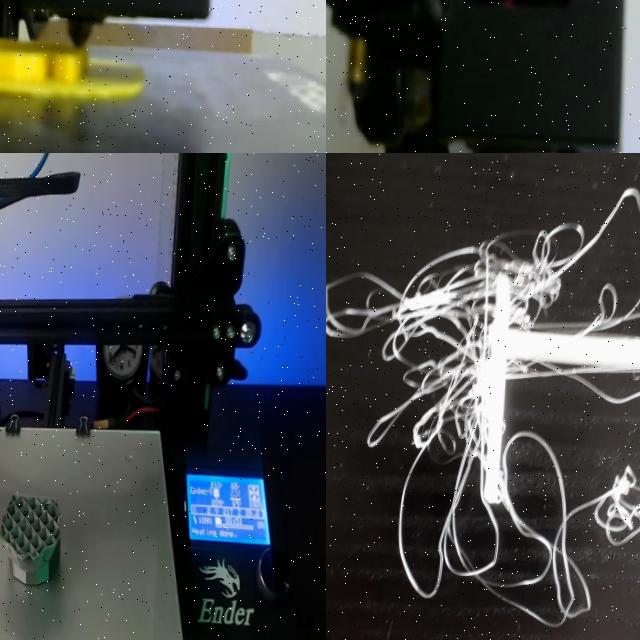spaghetti: (326, 176, 640, 626), (511, 434, 640, 640)
